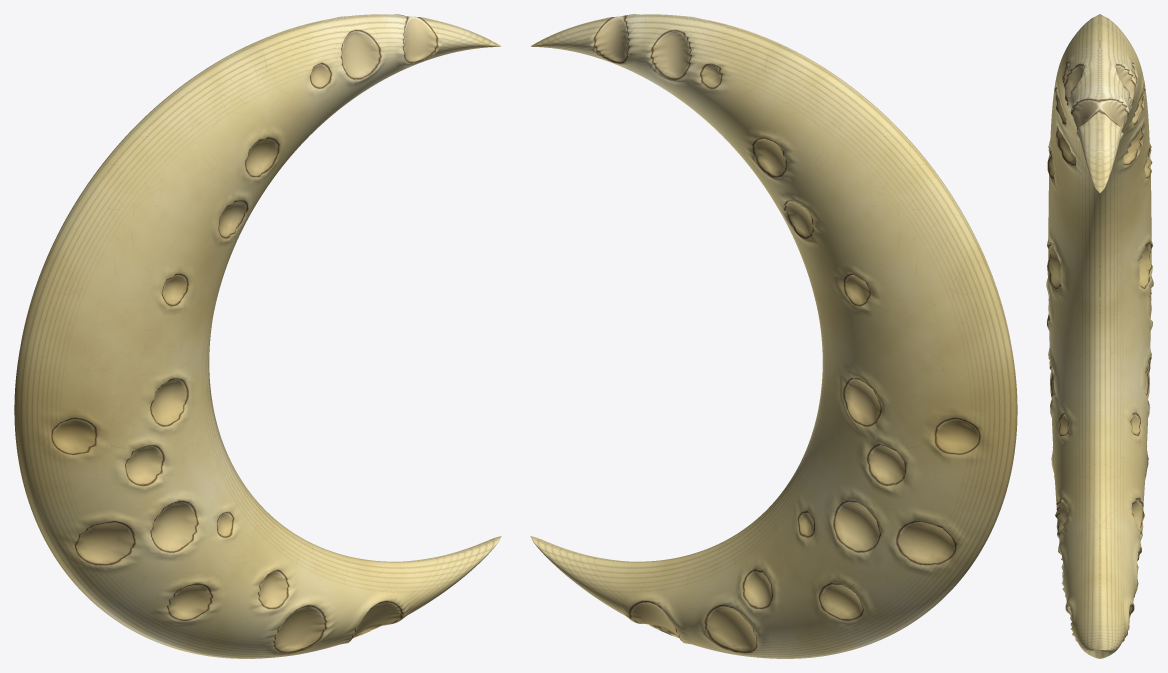
The model's file is luna.obj.
3 renders of one model, left to right at view 1: azimuth 30°, elevation 25°; view 2: azimuth 150°, elevation 25°; view 3: azimuth 270°, elevation 25°, orthographic. The views are drawn at different scales.
Visible parts, largest first — view 1: luna; view 2: luna; view 3: luna.
Part boxes in pixels (<box>): luna: <box>14,14,501,658</box>; luna: <box>530,14,1017,658</box>; luna: <box>1046,14,1153,658</box>.
Bounding box in the file's own units: 1.62 × 2 × 0.3337.
Materials: 1 (1 with a texture image).
